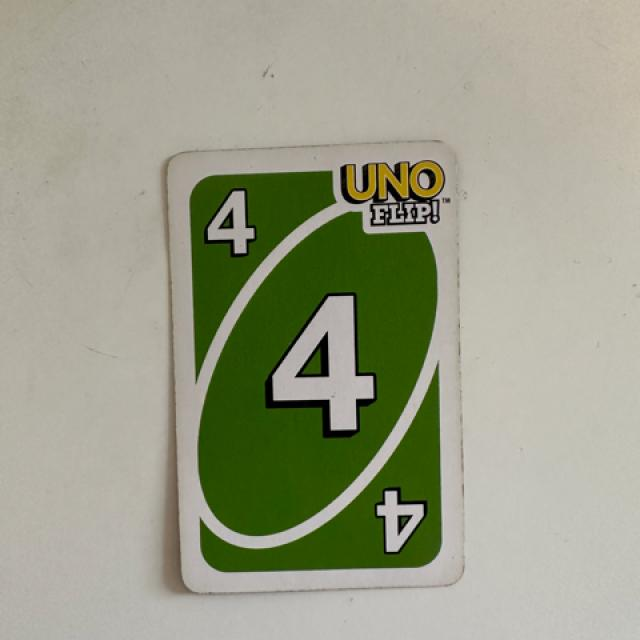lgreen-4: (182, 164, 274, 284)
